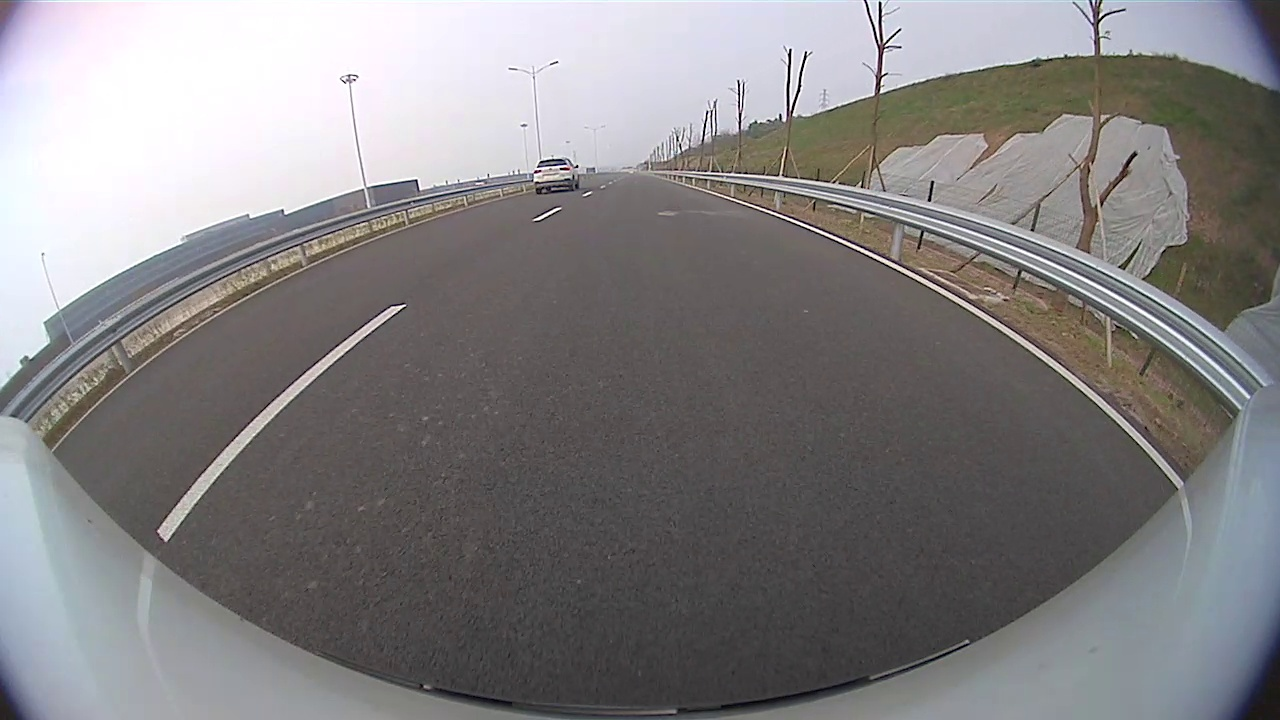car: (529, 156, 583, 196)
